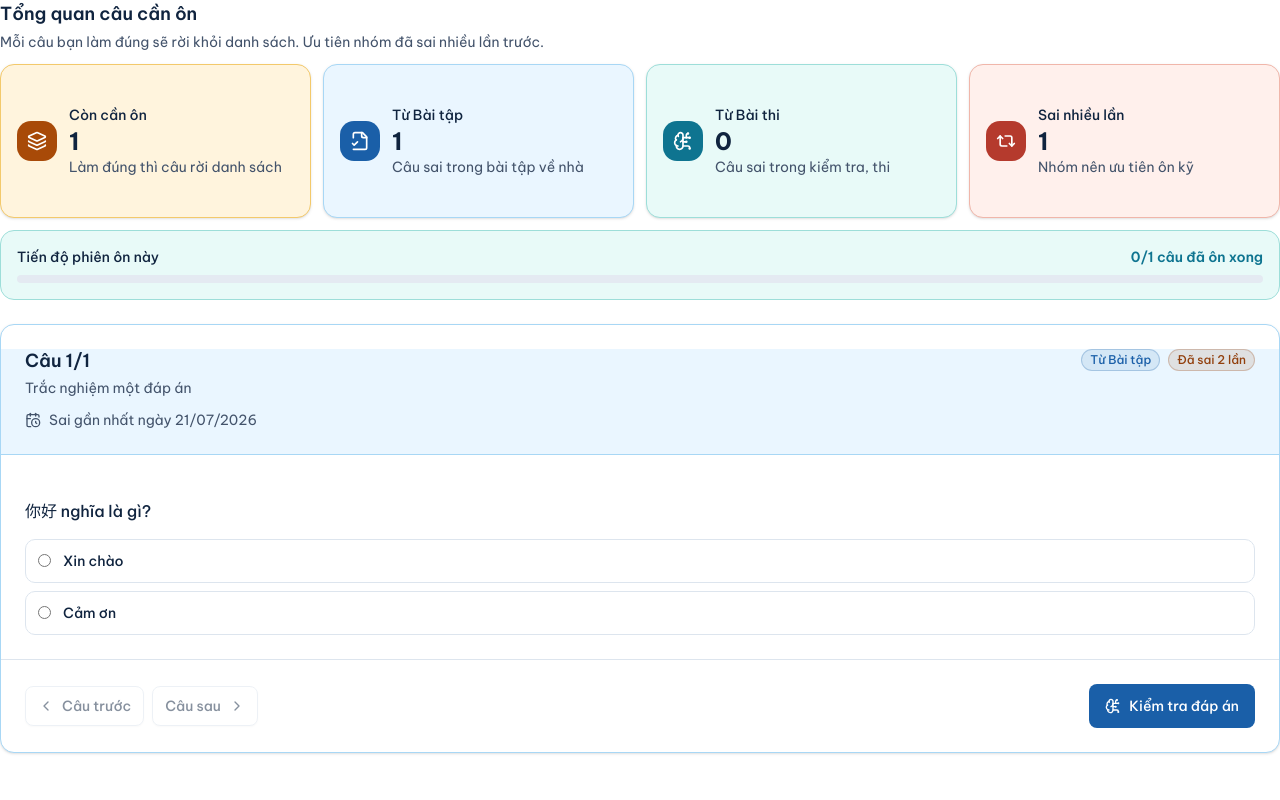
Test: WrongAnswerReview › lưu lần sai, cho thử lại và loại câu khỏi danh sách sau khi đúng
Click the radio button labelled "Cảm ơn". click: (44, 613)
box: [38,606,51,619]
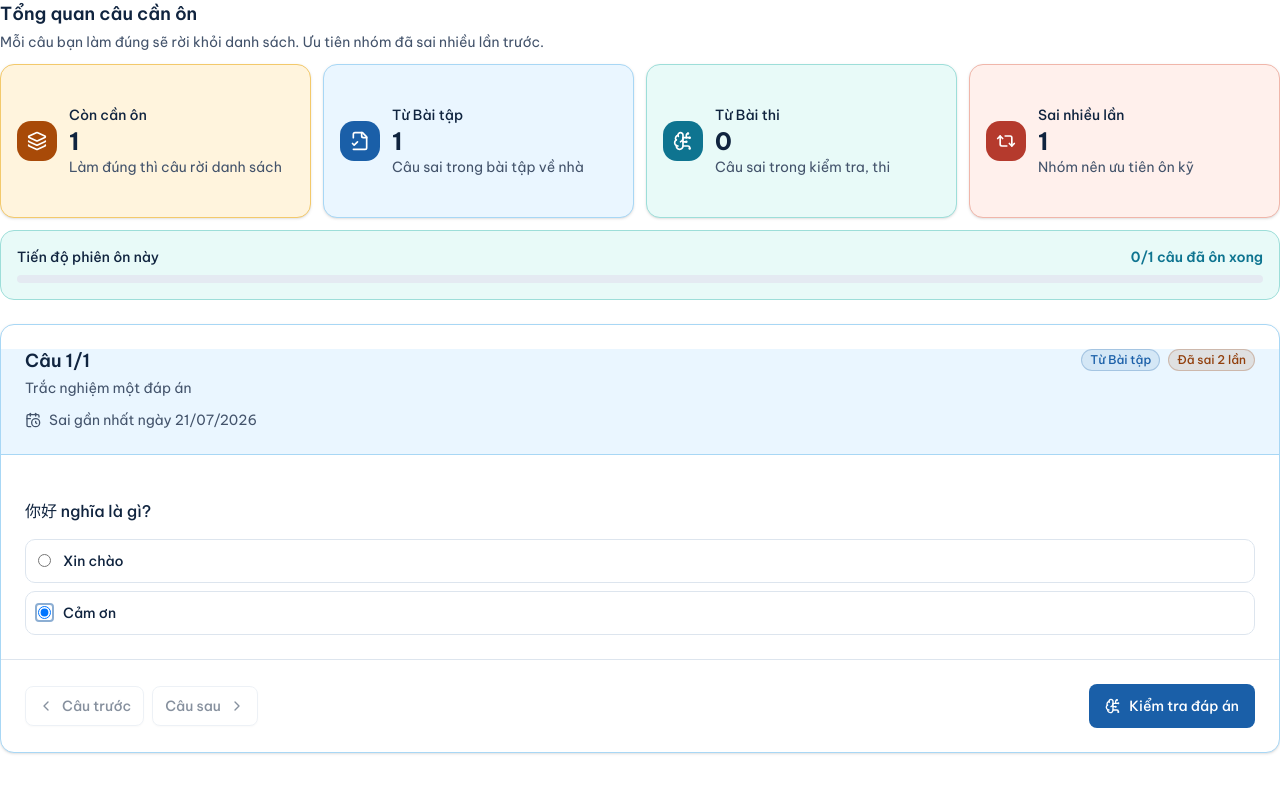
Click the button "Kiểm tra đáp án". click: (1172, 706)
box: [1089,684,1255,728]
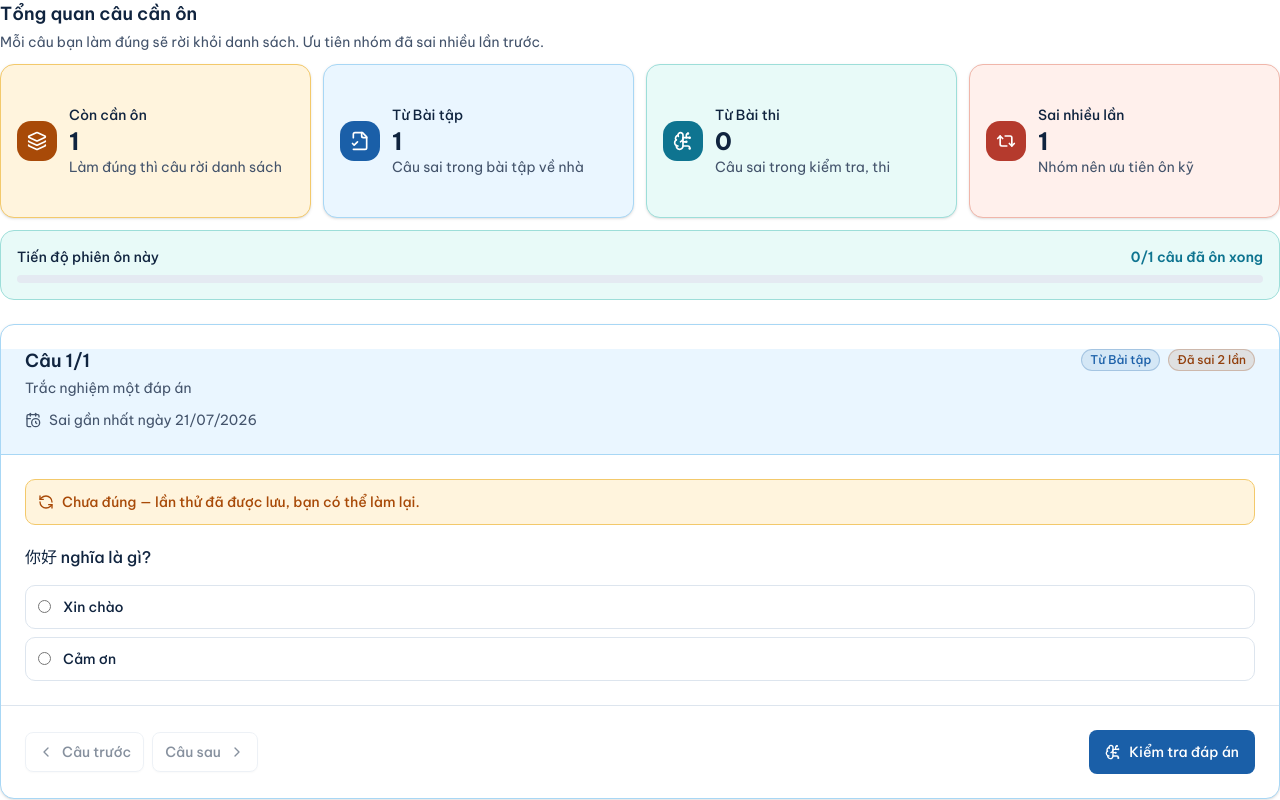
expect the text "你好 nghĩa là gì?" is shown: met, box [25,545,151,569]
expect the text "Chưa đúng — lần thử đã được lưu, bạn có thể làm lại." is shown: met, box [62,492,420,512]
Click the radio button labelled "Xin chào". click: (44, 607)
box: [38,600,51,613]
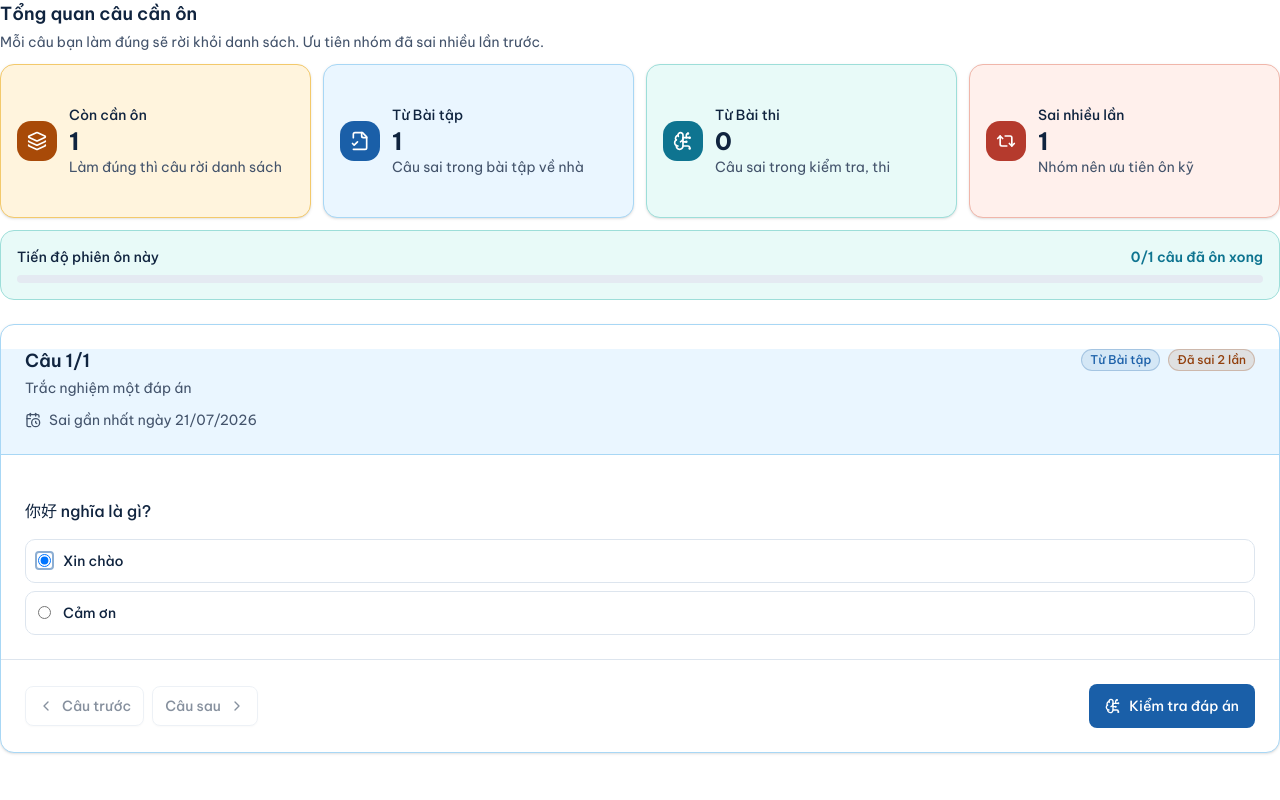
Click the button "Kiểm tra đáp án". click: (1172, 706)
box: [1089,684,1255,728]
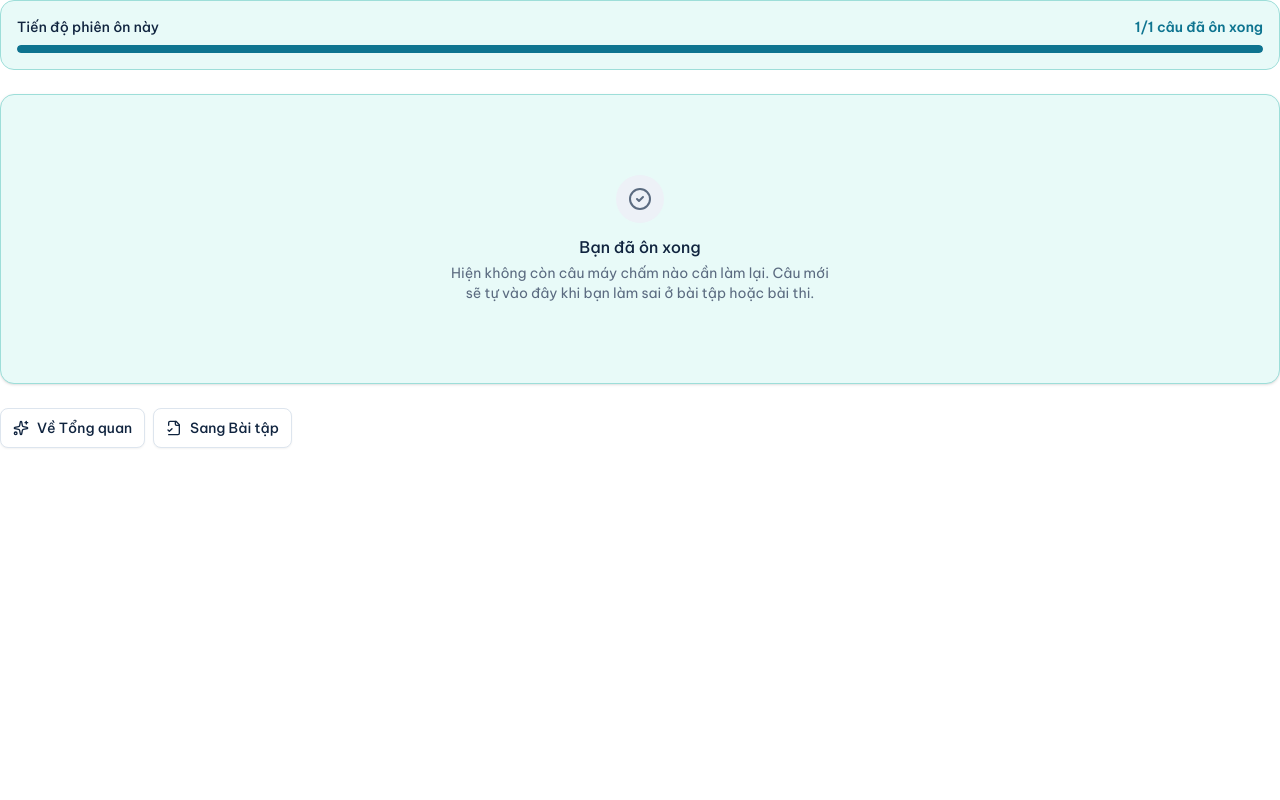
expect the text "Bạn đã ôn xong" is shown: met, box [579,237,701,257]
